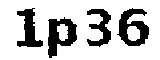1: (12, 5, 44, 49)
3: (84, 8, 115, 48)
6: (117, 3, 151, 50)
p: (47, 15, 81, 60)
